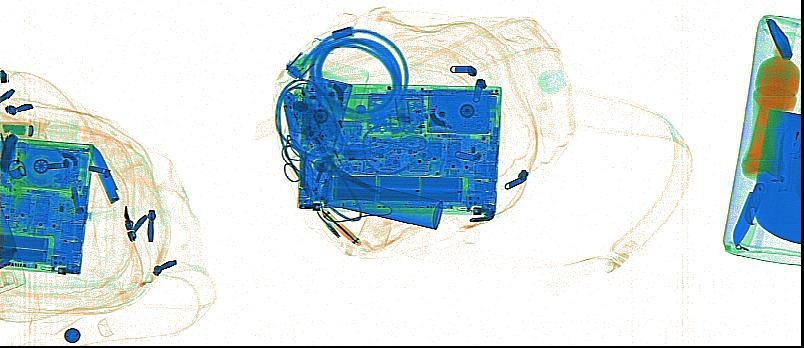knife: (752, 105, 799, 244), (731, 178, 765, 246), (86, 142, 119, 203), (764, 17, 792, 61)
lighter: (323, 210, 361, 244)
pressure: (319, 173, 442, 230)
scissors: (314, 157, 382, 194)
